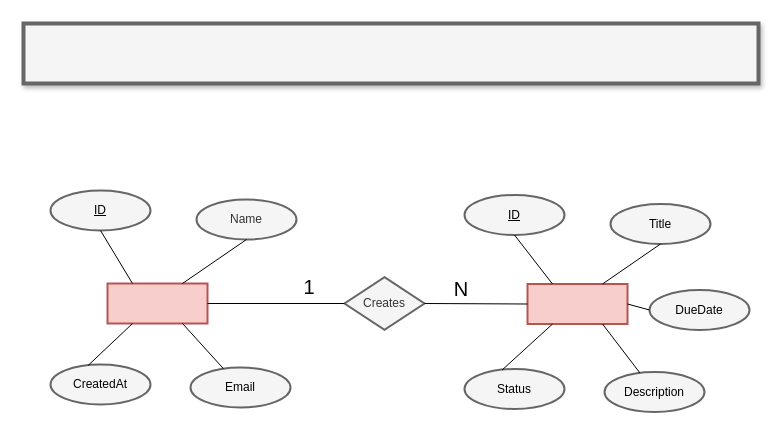
Image size: 783x430. Some labels were removed from this diagram. The centre of each missing label's shape, as x and y in pixels:
"Chen Notion ERD" goes at (x=391, y=54).
"Tasks" goes at (x=577, y=303).
"Users" goes at (x=157, y=303).
